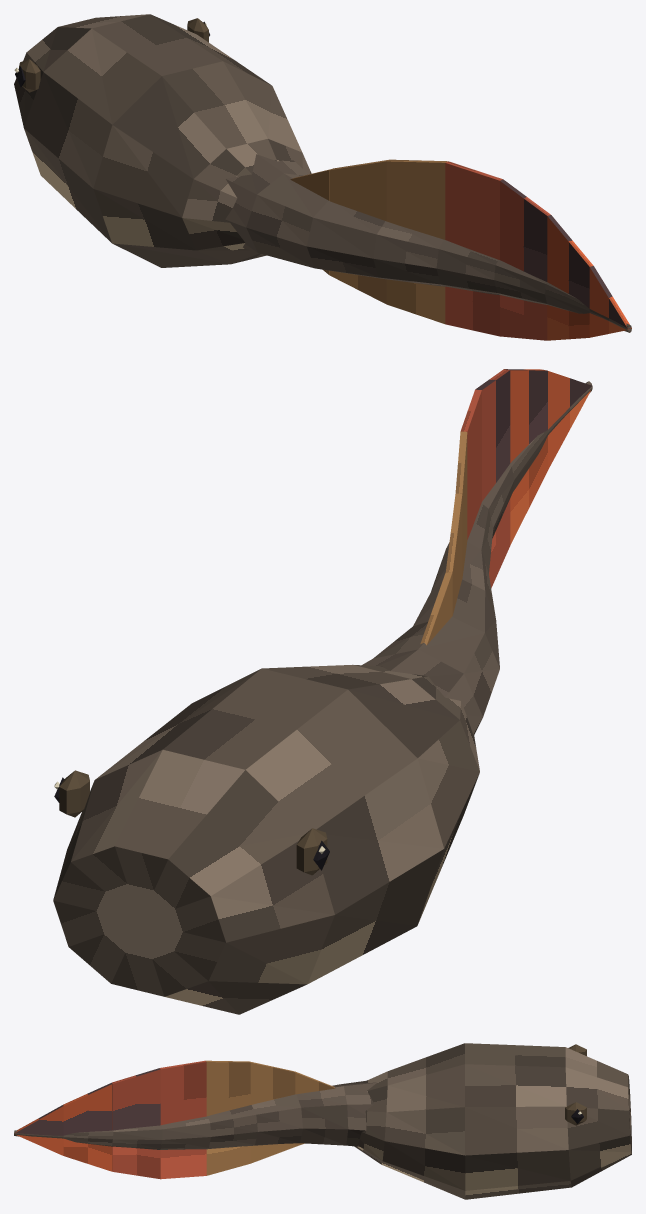
Rendered from mon_gray_tadpole.glb.
3 renders of one model, top to bottom at view 1: azimuth 30°, elevation 25°; view 2: azimuth 150°, elevation 25°; view 3: azimuth 270°, elevation 25°, orthographic. The views are drawn at different scales.
Visible parts, largest first — view 1: closed_body; view 2: closed_body; view 3: closed_body.
Part boxes in pixels (left/top/right/bottom): closed_body: left=14, top=14, right=631, bottom=340; closed_body: left=53, top=369, right=592, bottom=1014; closed_body: left=14, top=1043, right=631, bottom=1199.
Bounding box in the file's own units: 0.0264 × 0.0249 × 0.0913.
Materials: 1 (1 with a texture image).
